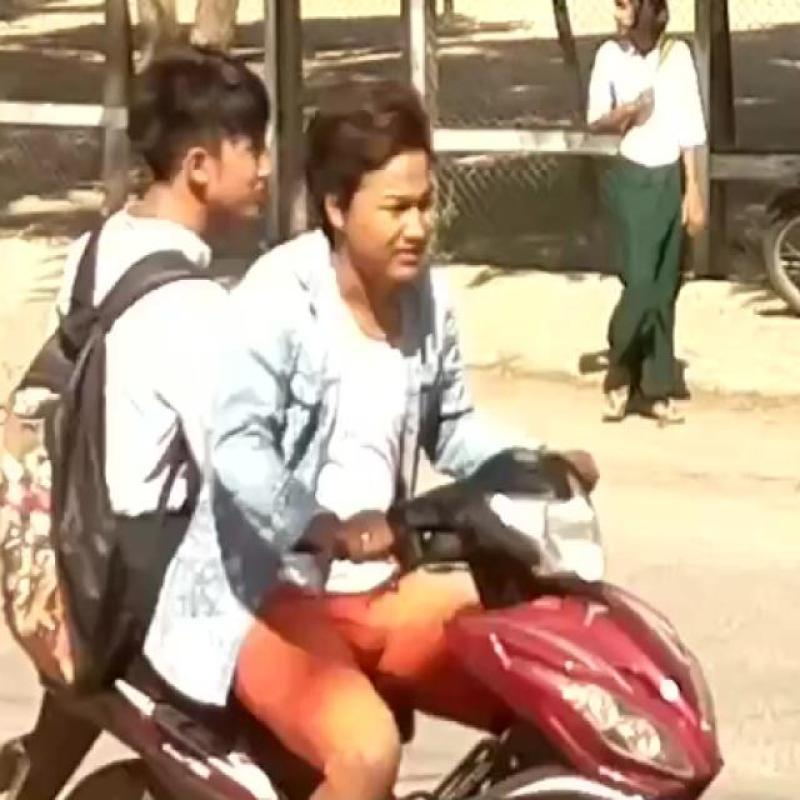nohelmet: (304, 68, 460, 294), (120, 34, 295, 234)
